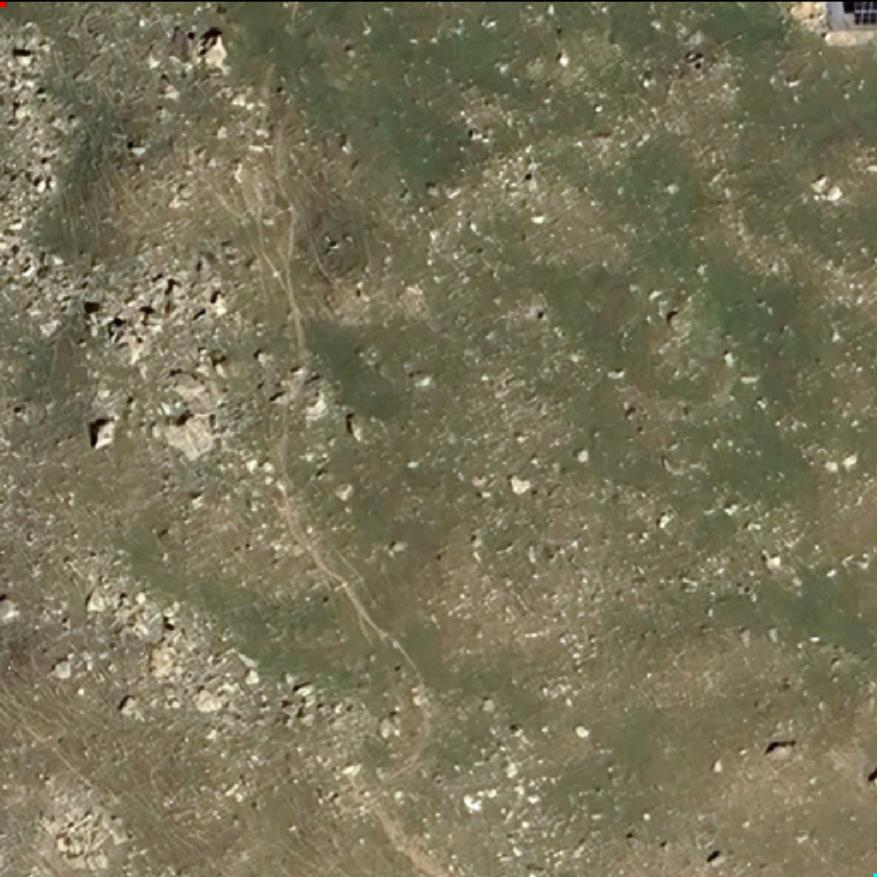Solarpanel: (846, 0, 877, 27)
